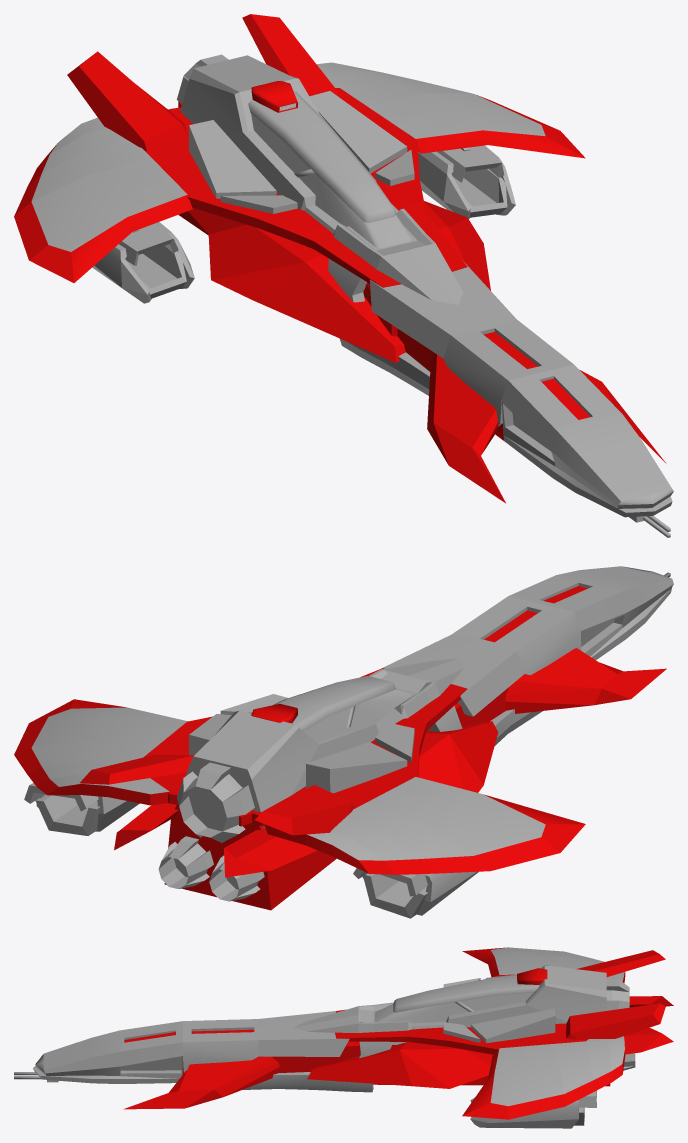
The model's file is Genyx2.fbx.
3 views of the same model, one above another, from view 1: azimuth 30°, elevation 25°; view 2: azimuth 150°, elevation 25°; view 3: azimuth 270°, elevation 25° (orthographic). The views are drawn at different scales.
Visible parts, largest first — view 1: Genyx2_diffuse, Genyx2_color; view 2: Genyx2_diffuse, Genyx2_color; view 3: Genyx2_diffuse, Genyx2_color.
Boxes of the visible parts, x1,y1,x2,y2 form: Genyx2_diffuse: [31, 54, 673, 537]; Genyx2_color: [14, 14, 666, 503]; Genyx2_diffuse: [24, 566, 673, 918]; Genyx2_color: [14, 586, 666, 910]; Genyx2_diffuse: [14, 947, 635, 1128]; Genyx2_color: [123, 947, 673, 1119].
Bounding box in the file's own units: 4.47 × 1.34 × 7.28.
